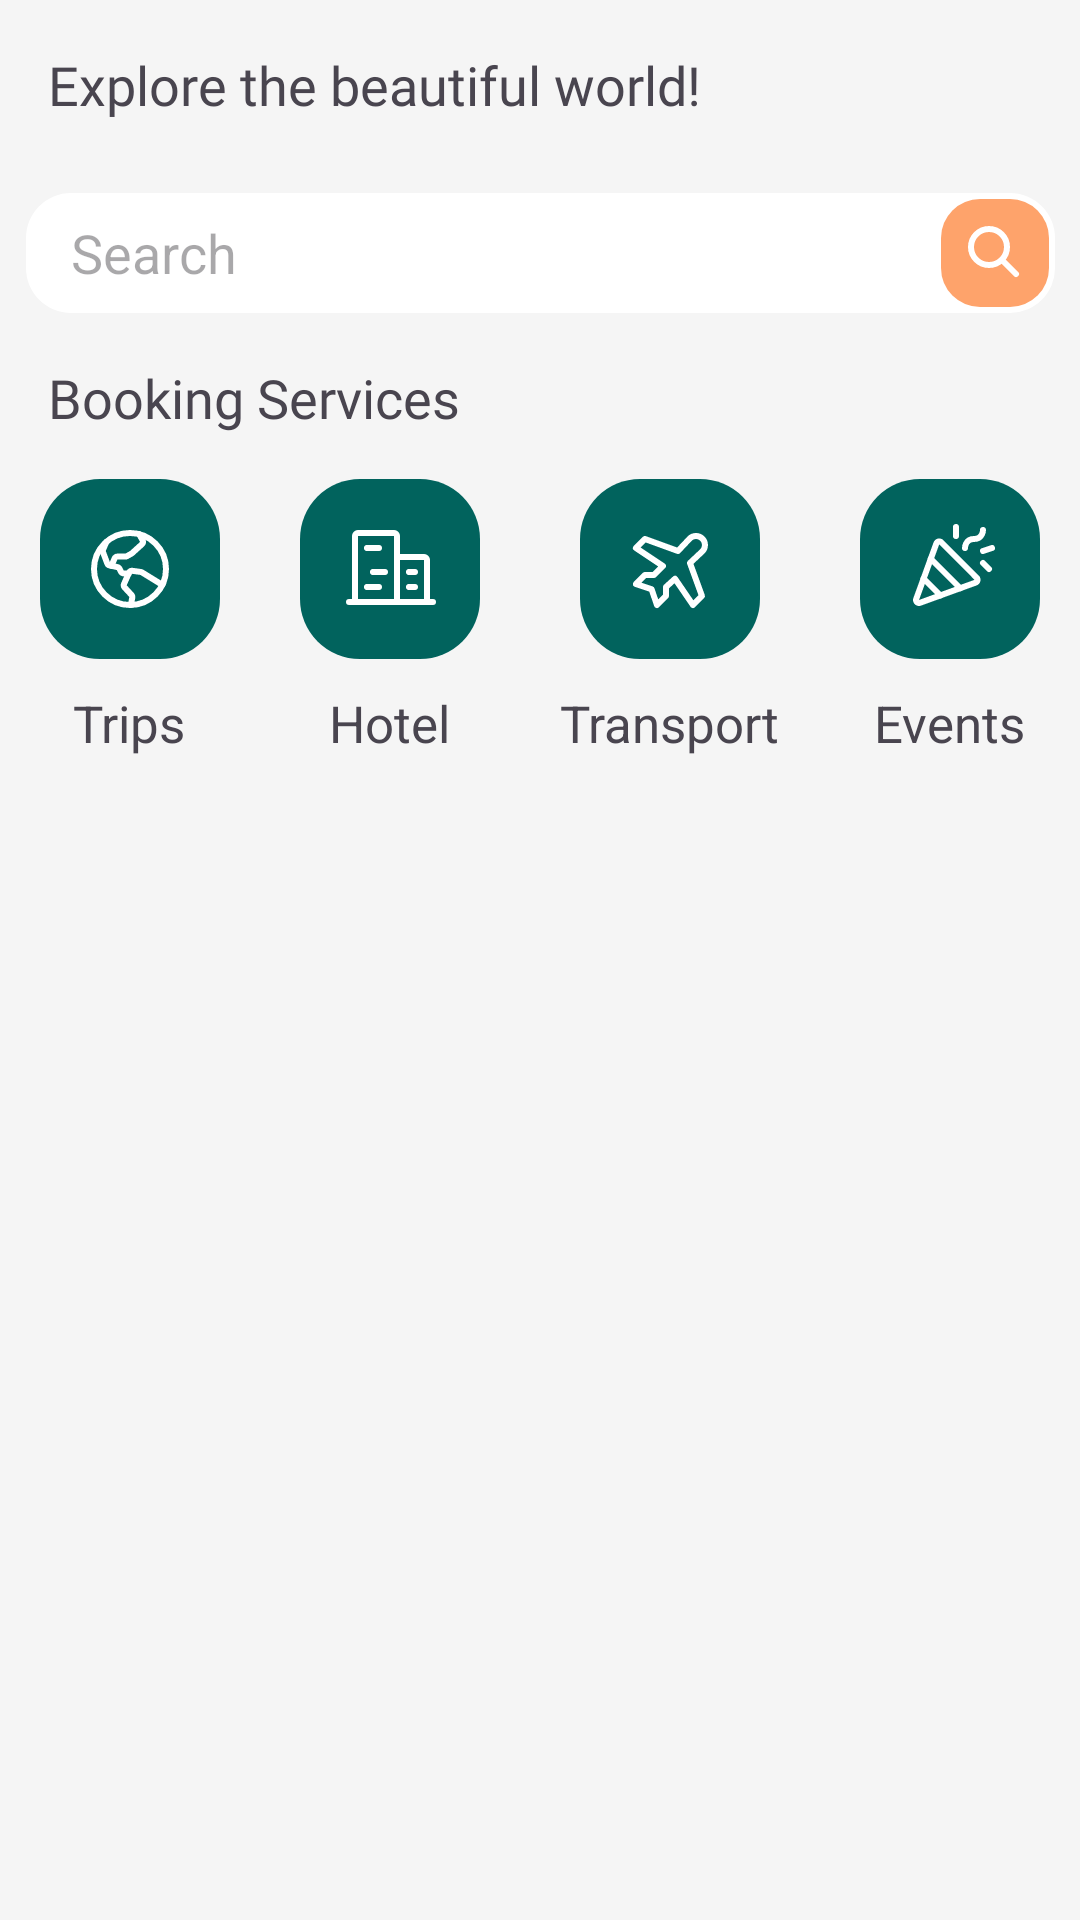

Icon bounding boxes for this 1080px x 1920px phone screenshot, format (x1, y1, x2, y2):
magnify: (968, 226, 1019, 277)
